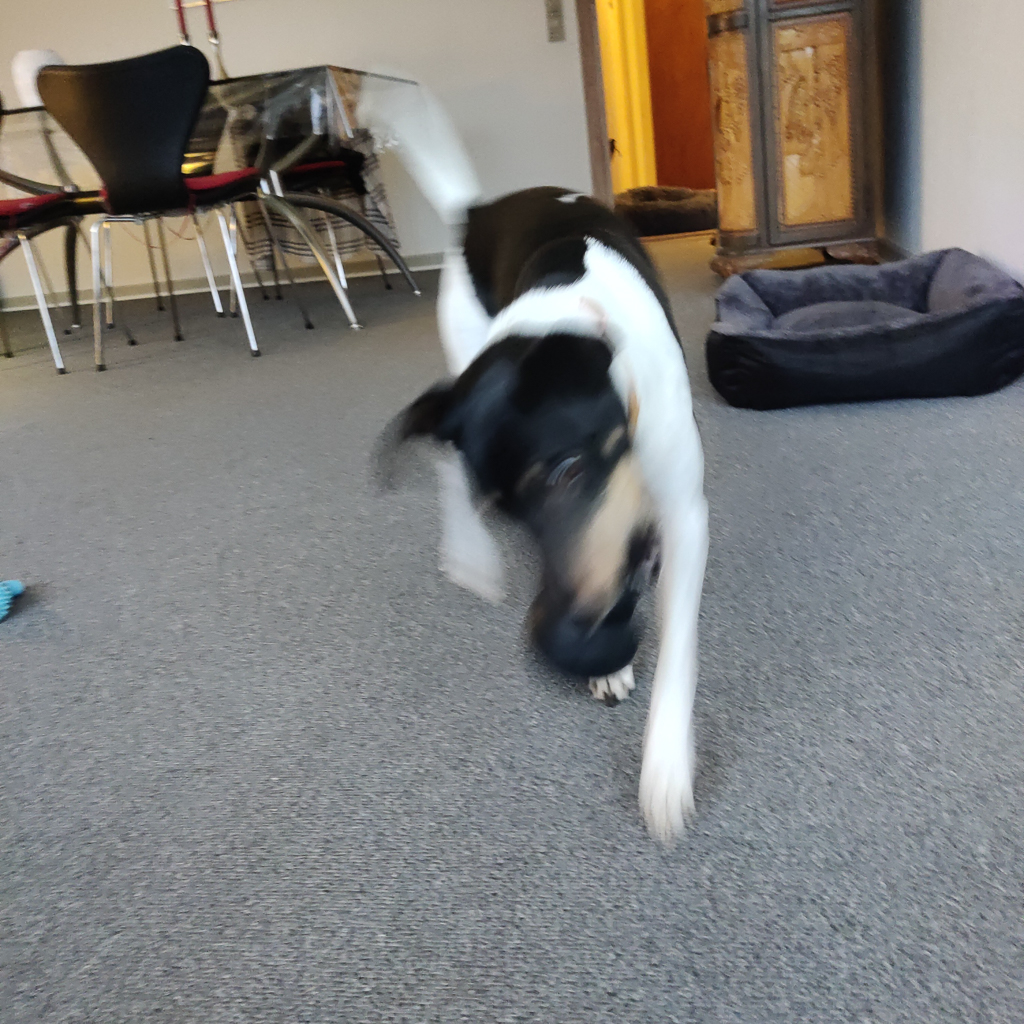Dog: (333, 40, 798, 891)
